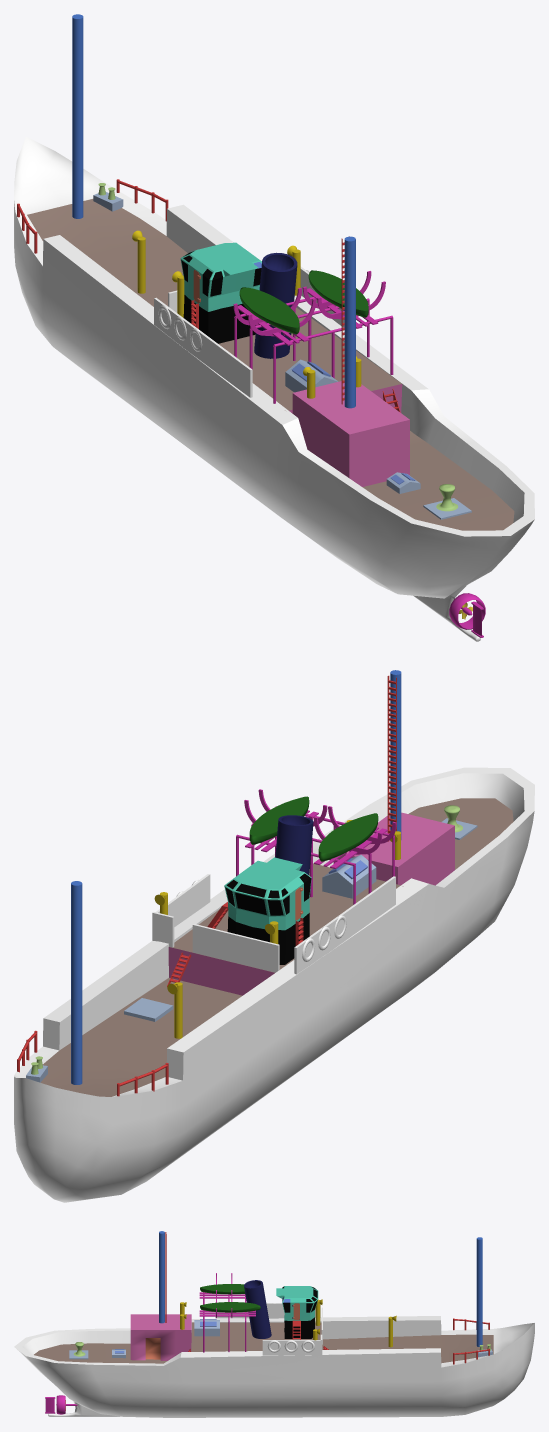
File: schiff_final_uv_v2.fbx
3 renders of one model, top to bottom at view 1: azimuth 30°, elevation 25°; view 2: azimuth 150°, elevation 25°; view 3: azimuth 270°, elevation 25°, orthographic. The views are drawn at different scales.
Visible parts, largest first — view 1: group1_pasted__tugboat_prop3_pasted__polySurface506; view 2: group1_pasted__tugboat_prop3_pasted__polySurface506; view 3: group1_pasted__tugboat_prop3_pasted__polySurface506.
Part boxes in pixels (x1=…): group1_pasted__tugboat_prop3_pasted__polySurface506: x1=14, y1=14, x2=534, y2=641; group1_pasted__tugboat_prop3_pasted__polySurface506: x1=14, y1=670, x2=534, y2=1202; group1_pasted__tugboat_prop3_pasted__polySurface506: x1=14, y1=1231, x2=534, y2=1417.
Size of the model in its own units: 667 by 1431 by 3793.
